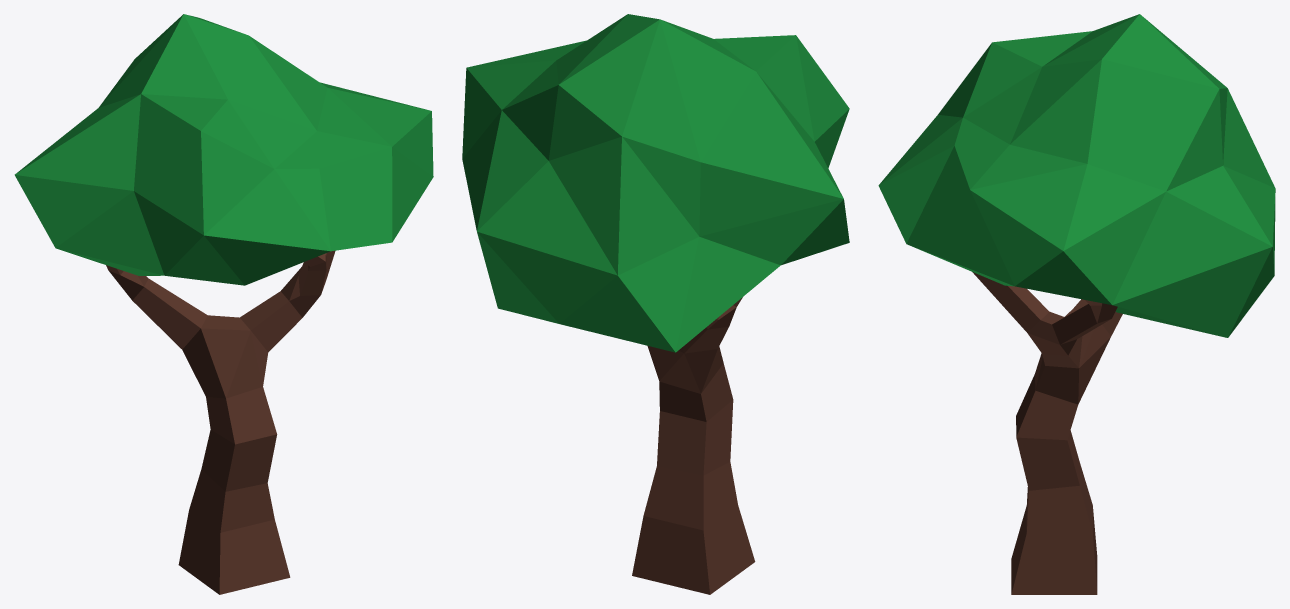
File: Tree2 1.fbx
The picture shows the model from 3 angles, left to right: view 1: azimuth 30°, elevation 25°; view 2: azimuth 150°, elevation 25°; view 3: azimuth 270°, elevation 25°; orthographic projection. The views are drawn at different scales.
Visible parts, largest first — view 1: Leaves2, Trunk2.001; view 2: Leaves2, Trunk2.001; view 3: Leaves2, Trunk2.001.
Part boxes in pixels (<box>): Leaves2: <box>14,14,433,285</box>; Trunk2.001: <box>106,250,335,594</box>; Leaves2: <box>462,14,849,352</box>; Trunk2.001: <box>632,297,755,594</box>; Leaves2: <box>878,14,1275,337</box>; Trunk2.001: <box>972,272,1122,594</box>.
Bounding box in the file's own units: 387 × 450 × 600.
